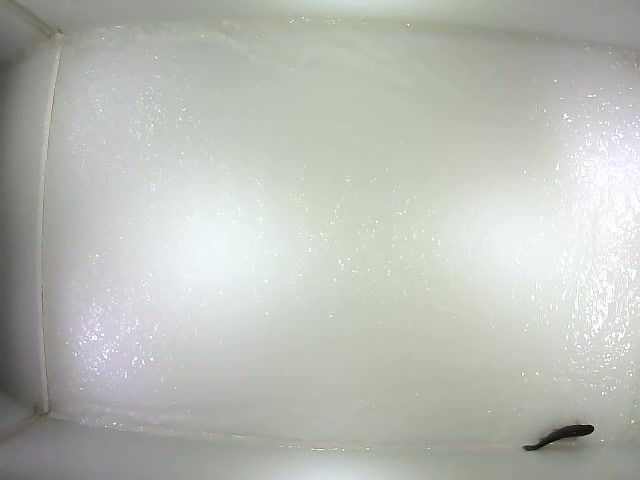fish: (520, 418, 596, 453)
